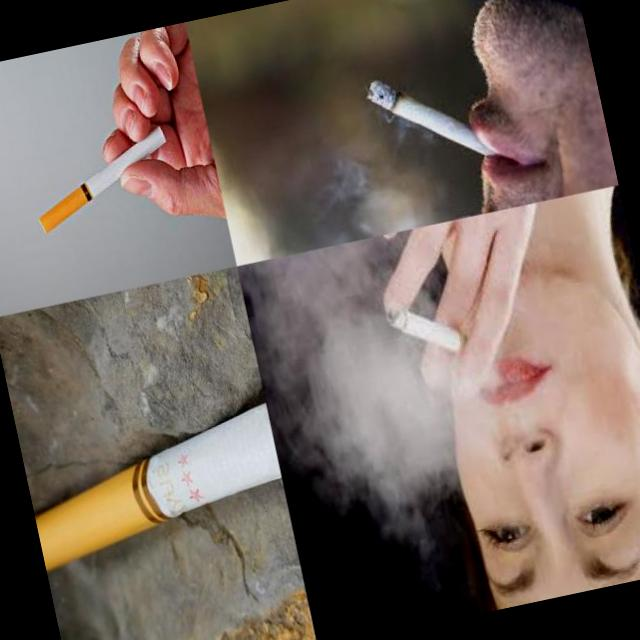cigarette: (16, 377, 291, 576), (364, 54, 514, 186), (21, 122, 180, 238), (385, 291, 475, 370)
